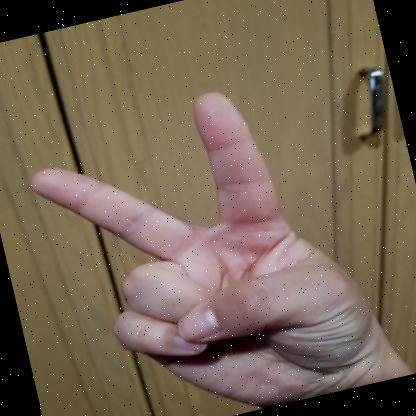V: (30, 92, 396, 408)
